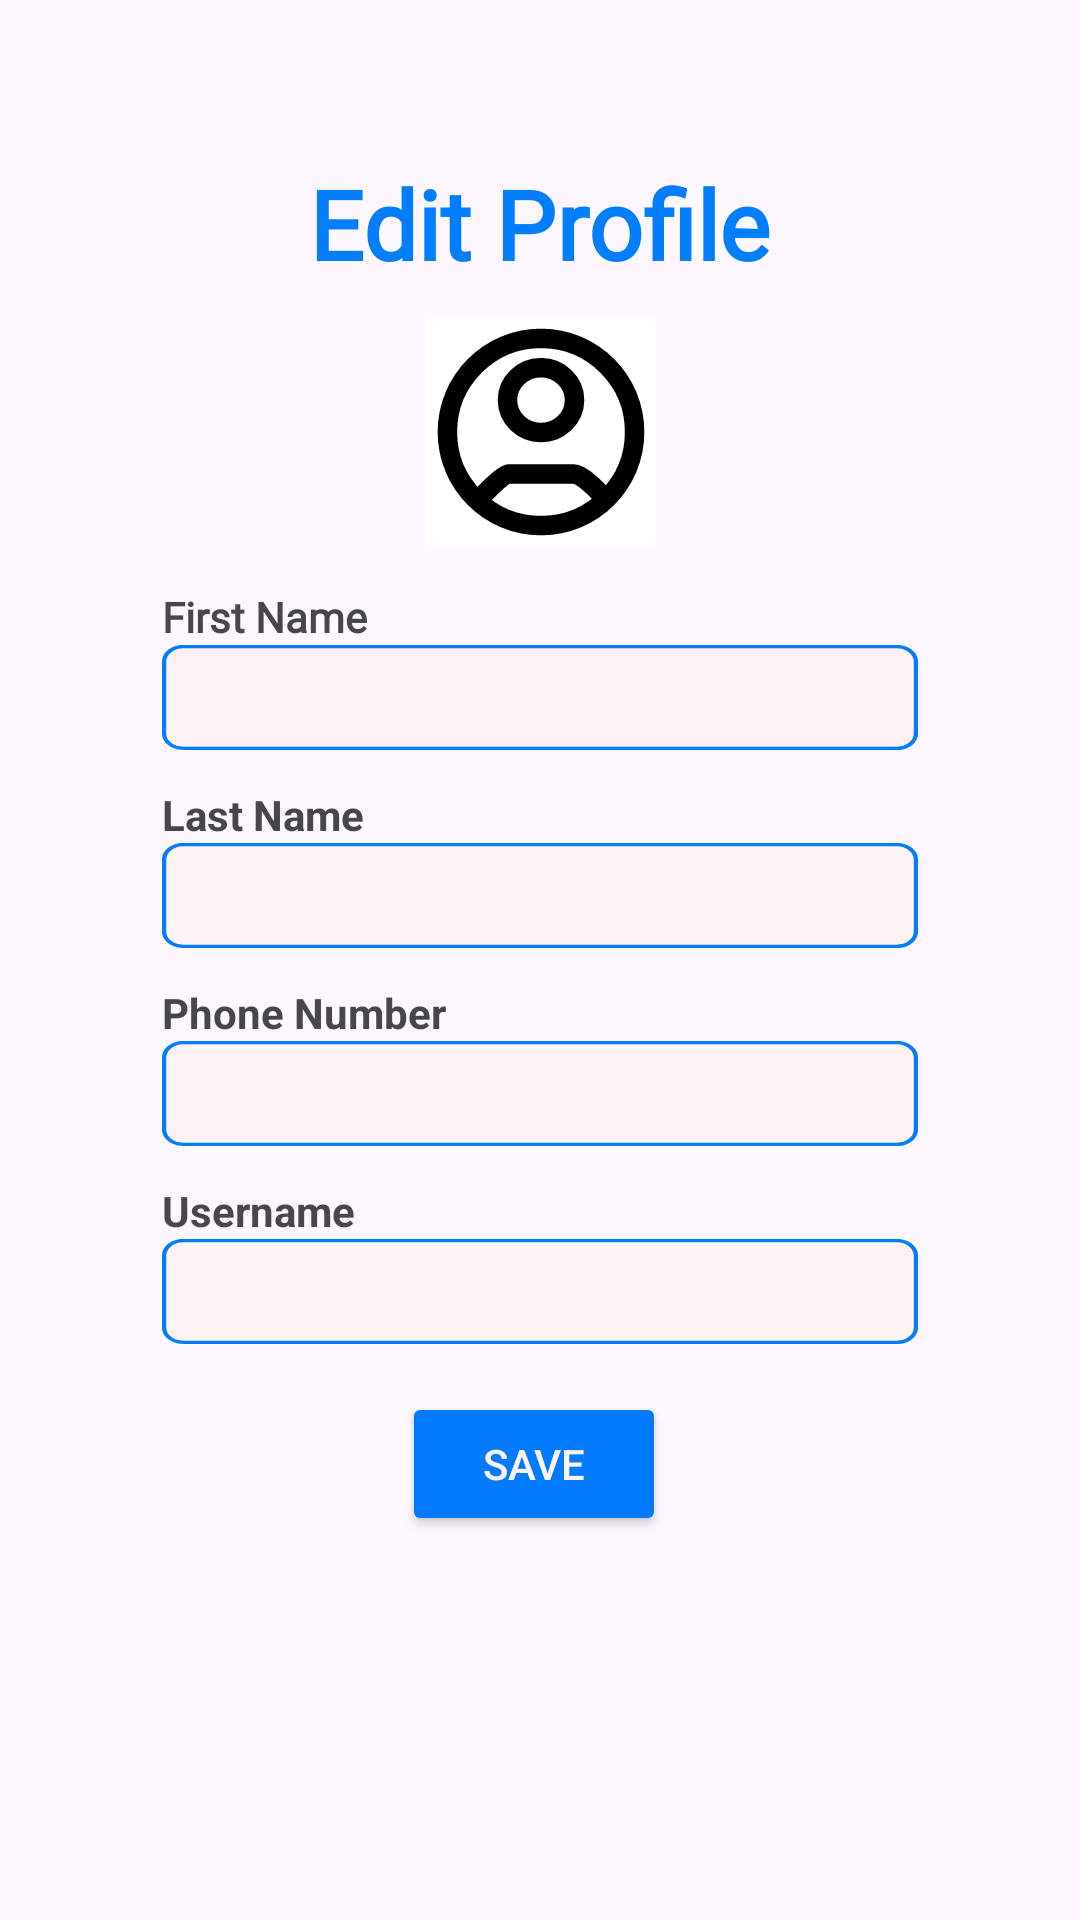

Icon click points for this 1080×1920 phone screenshot, format (x=x, y=y):
user profile: (x=541, y=432)
